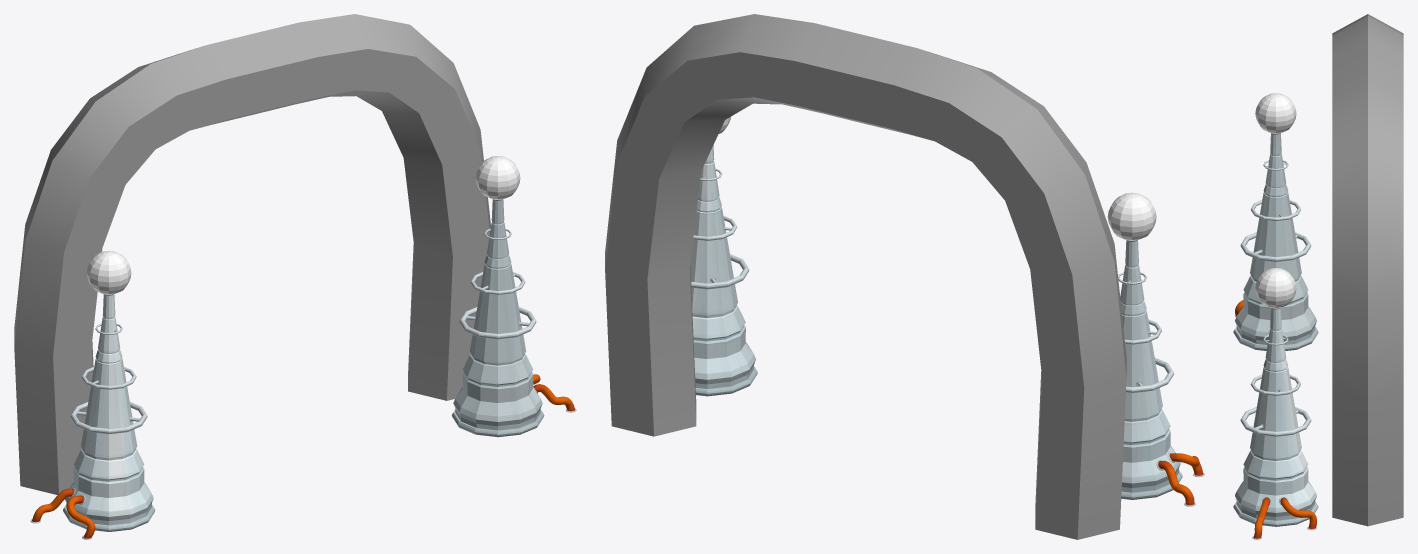
File: Portal.fbx
3 renders of one model, left to right at view 1: azimuth 30°, elevation 25°; view 2: azimuth 150°, elevation 25°; view 3: azimuth 270°, elevation 25°, orthographic. The views are drawn at different scales.
Parts seen in each view (by area): view 1: pCylinder3, pasted__polySurface3 (×2), pasted__polySurface4 (×2), pasted__pTorus5 (×2); view 2: pCylinder3, pasted__polySurface3 (×2), pasted__polySurface4; view 3: pCylinder3, pasted__polySurface3 (×2), pasted__polySurface4 (×2), pasted__pTorus5 (×4), pasted__polySurface1, pasted__polySurface2.
Boxes of the visible parts, x1,y1,x2,y2 form: pCylinder3: [14, 14, 490, 494]; pasted__polySurface3 (×2): [63, 199, 544, 531]; pasted__polySurface4 (×2): [86, 156, 520, 294]; pasted__pTorus5 (×2): [70, 307, 536, 433]; pCylinder3: [605, 14, 1126, 539]; pasted__polySurface3 (×2): [690, 145, 1182, 499]; pasted__polySurface4: [1107, 192, 1156, 240]; pCylinder3: [1332, 14, 1403, 526]; pasted__polySurface3 (×2): [1233, 133, 1318, 526]; pasted__polySurface4 (×2): [1255, 93, 1296, 308]; pasted__pTorus5 (×4): [1240, 200, 1311, 436]; pasted__polySurface1: [1280, 497, 1316, 528]; pasted__polySurface2: [1253, 497, 1270, 538].
Size of the model in its own units: 676 by 488 by 207.
3 materials, 2 textured.
